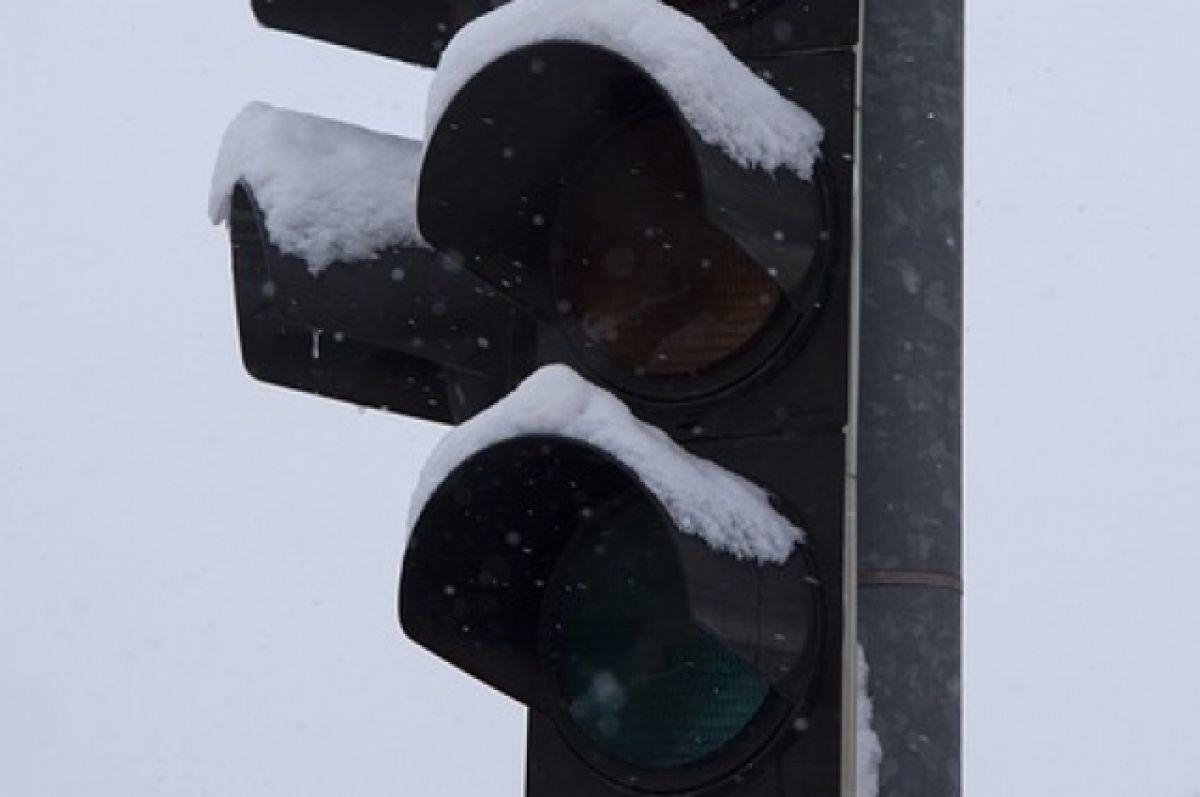off traffic light: (209, 0, 962, 796)
